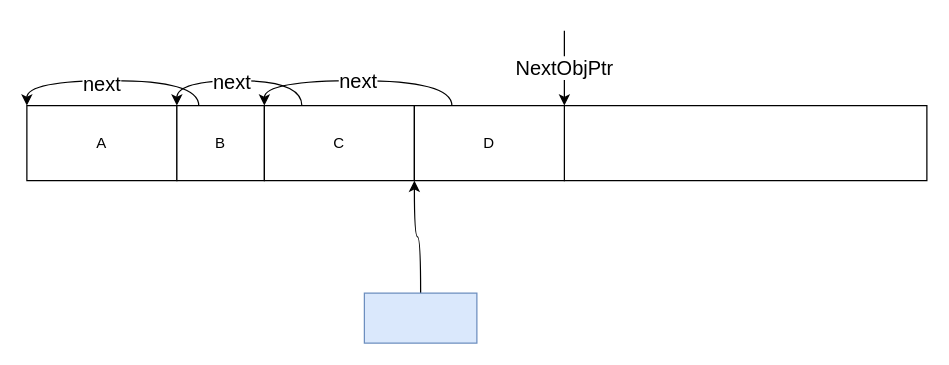
Image size: 949x365. Some labels were removed from this diagram. Each missing label, with the centre of its shape:
allgc: the point at 420,317
Unuse space: the point at 745,142
